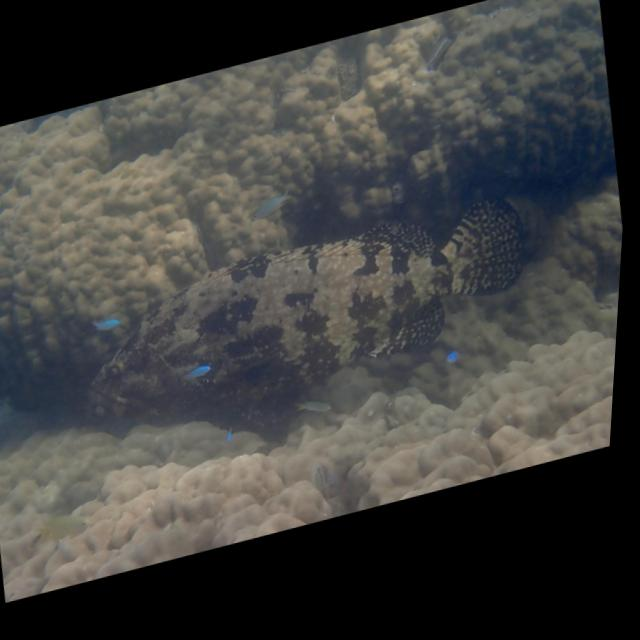Groupers: (67, 176, 552, 456)
